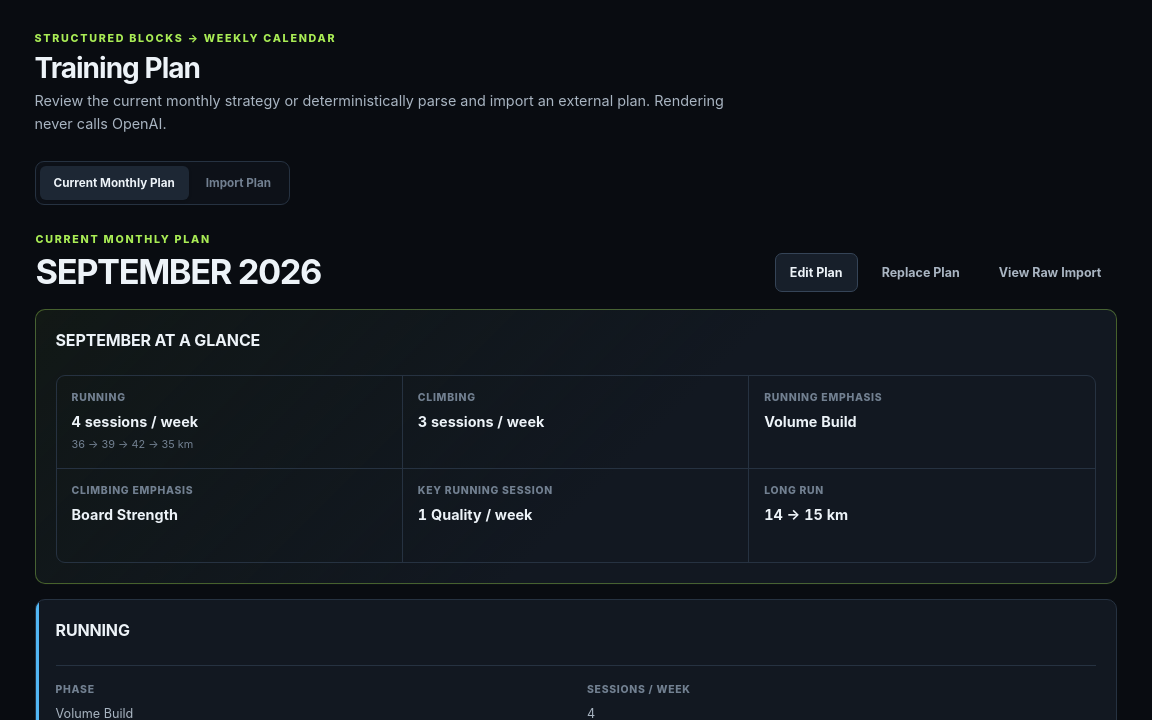
external plan import › renders the current monthly block as a readable plan and keeps raw import secondary
Check: the heading "SEPTEMBER 2026" is shown, box [36,251,321,292]
Check: the text "Volume Build" below "Running emphasis" is shown, box [764,413,857,430]
Click the button "View Raw Import".
click(1050, 272)  # box [984,253,1116,292]
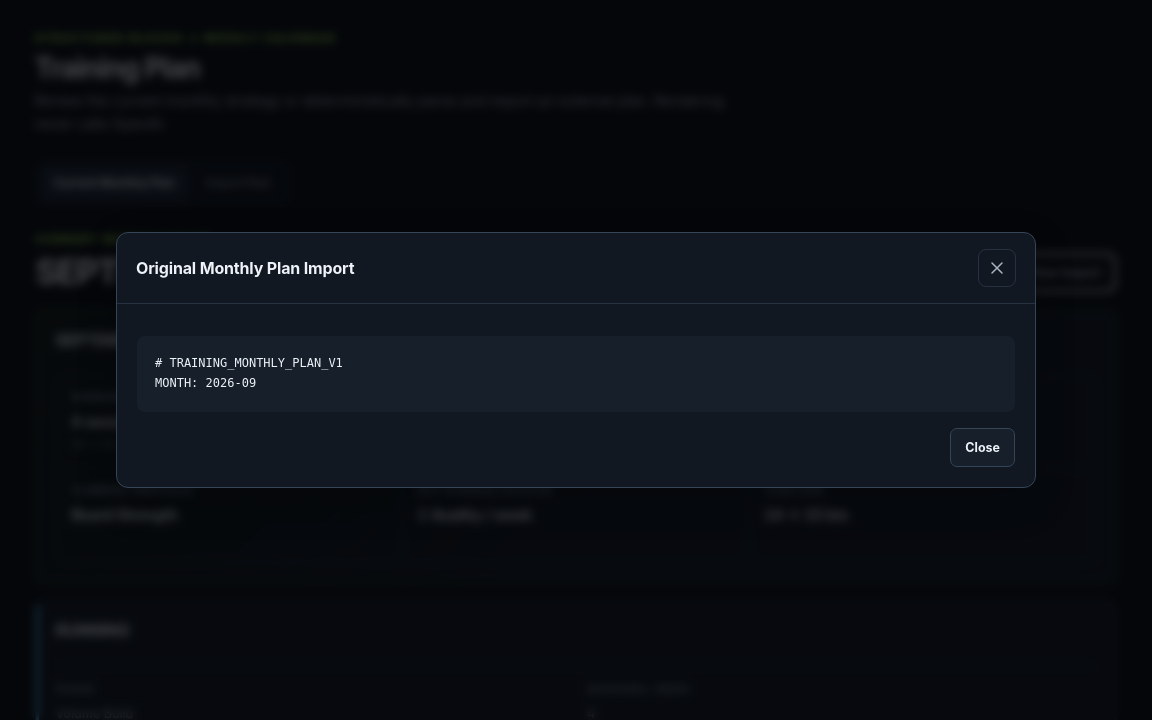
Check: the text "# TRAINING_MONTHLY_PLAN_V1 MONTH: 2026-09" is shown, box [137,336,1015,412]
Click the button named "Close".
click(997, 268)  # box [978,249,1016,287]
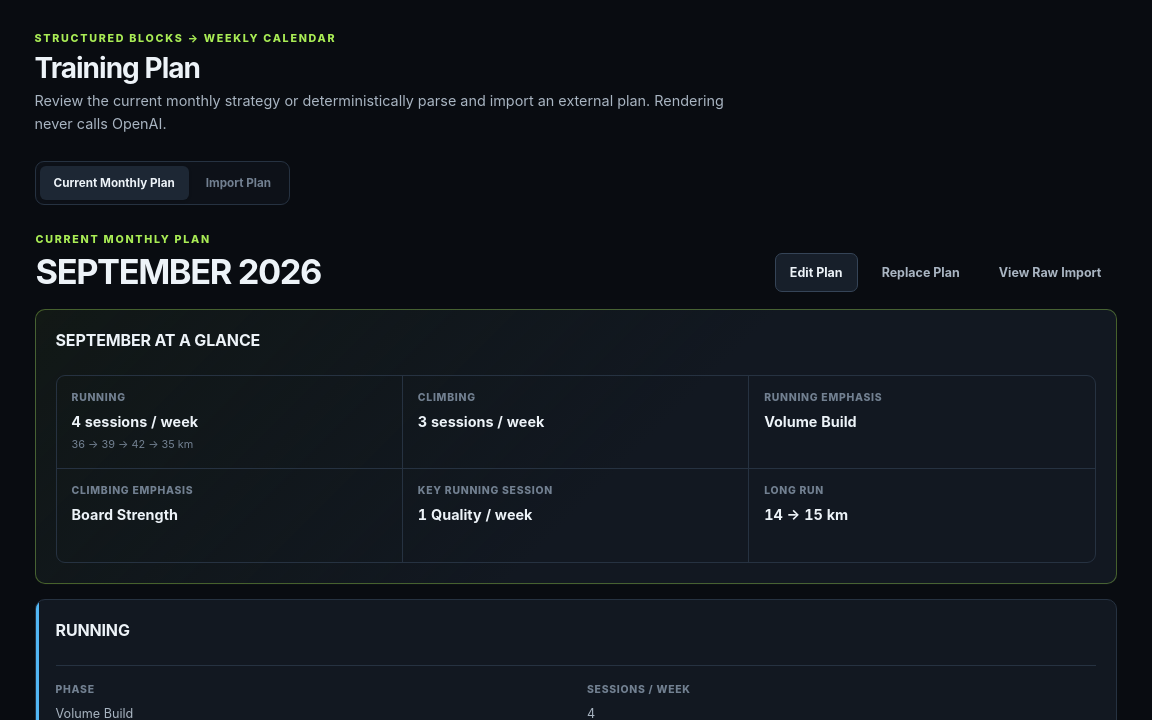
Click the tab "Import Plan".
click(238, 183)  # box [192,166,285,200]
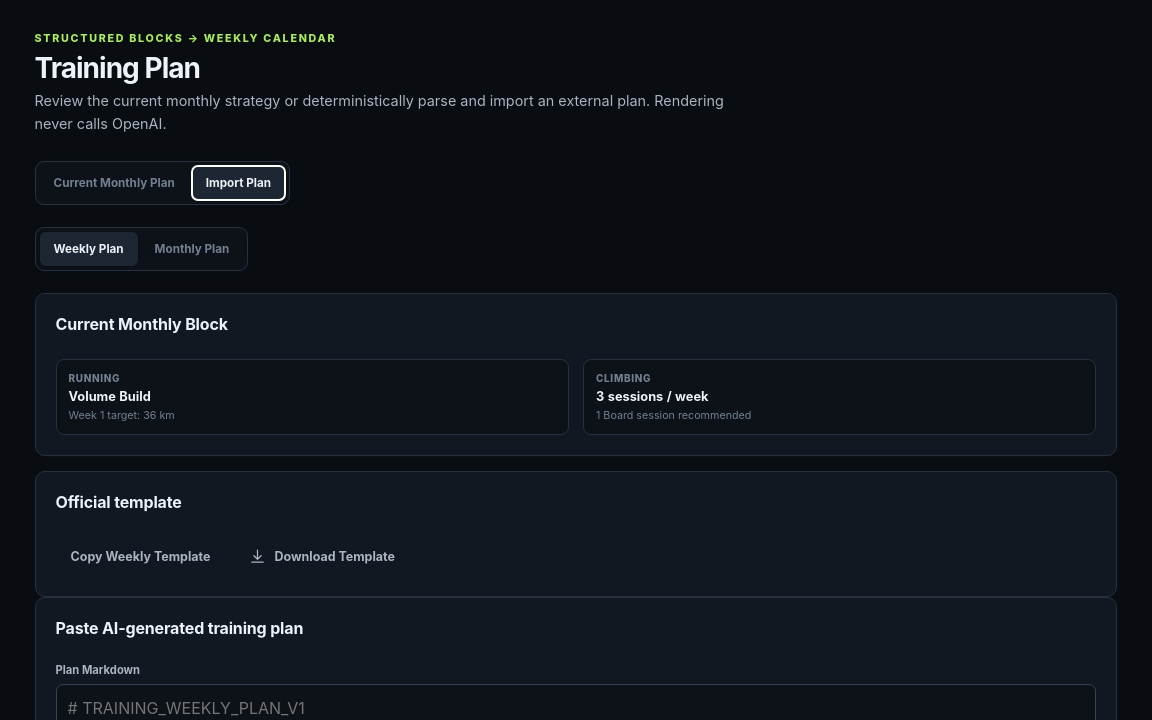
Check: the heading "Current Monthly Block" is shown, box [56,314,228,334]
Check: the text "1 Board session recommended" is shown, box [596,409,751,422]
